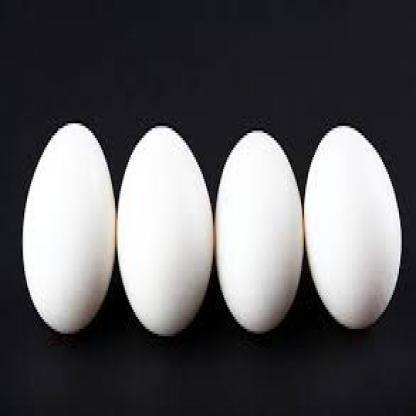egg: (116, 125, 214, 338), (23, 122, 116, 336), (306, 127, 402, 330), (215, 130, 305, 335)
